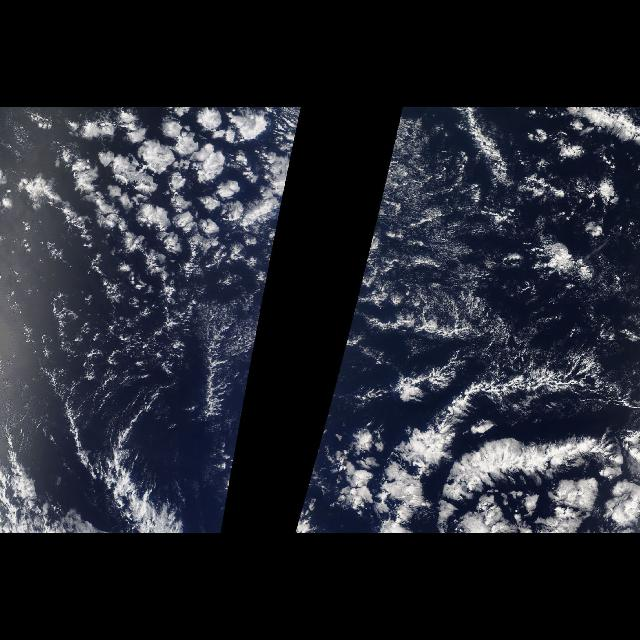Fish: (436, 422, 614, 508), (464, 338, 616, 402)
Flower: (12, 111, 302, 313)
Gravel: (30, 300, 194, 394)
Sugar: (371, 124, 523, 362)
